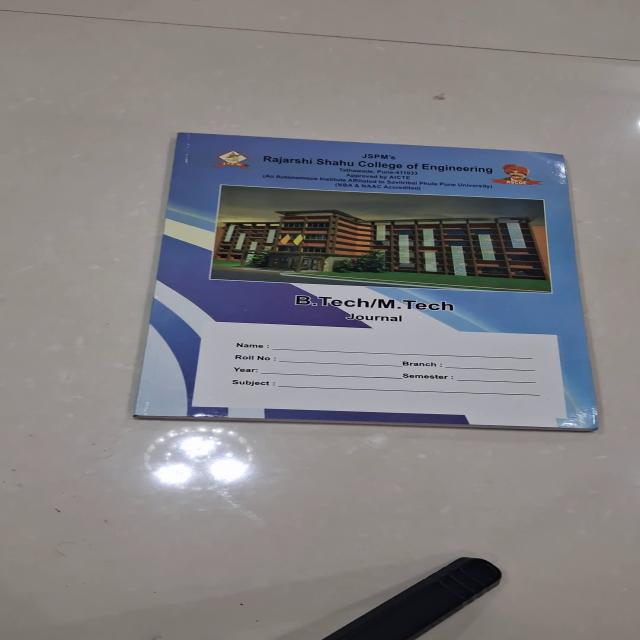paper: (132, 132, 600, 430)
